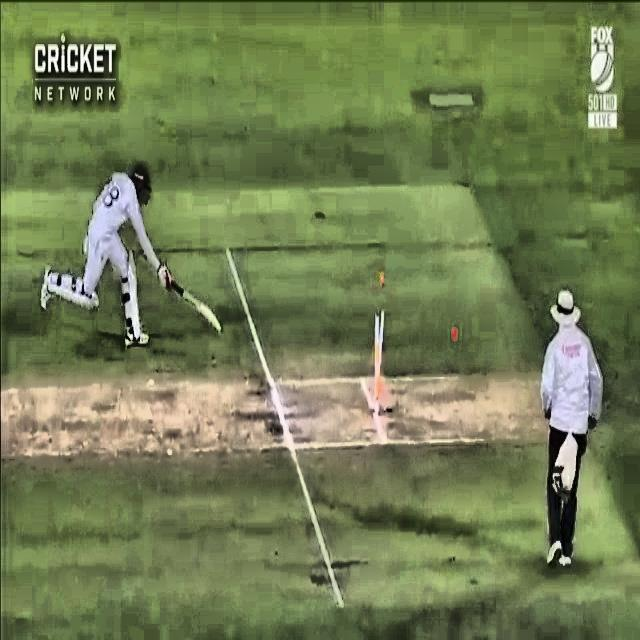Ball: (443, 320, 466, 351)
Bat: (152, 263, 226, 336)
Dis_Wicket: (357, 260, 404, 430)
Pitch_Line: (224, 247, 343, 609)
